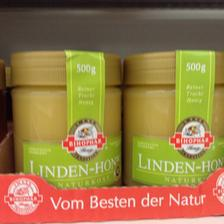Honig: (7, 51, 121, 193), (125, 49, 223, 183)
